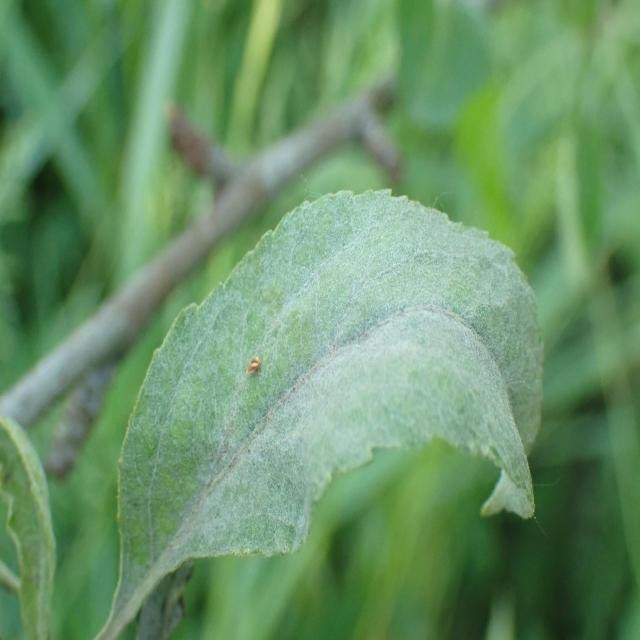Powdery_mildew: (102, 176, 579, 570)
